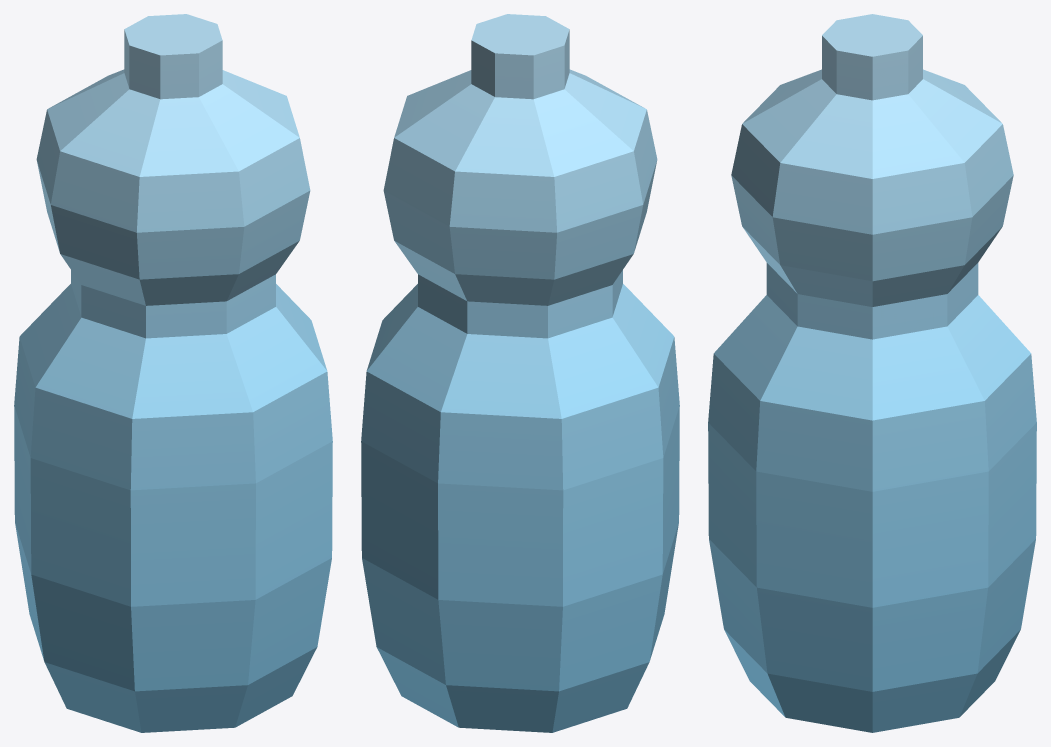
File: bottle.fbx
3 views of the same model, side by side, from view 1: azimuth 30°, elevation 25°; view 2: azimuth 150°, elevation 25°; view 3: azimuth 270°, elevation 25° (orthographic).
Parts seen in each view (by area): view 1: bottle; view 2: bottle; view 3: bottle.
Part boxes in pixels (bbox=[...]): bottle: bbox=[14, 14, 332, 732]; bottle: bbox=[361, 14, 679, 732]; bottle: bbox=[708, 14, 1036, 732].
Size of the model in its own units: 61.18 by 137 by 61.18.
1 material, 1 textured.
